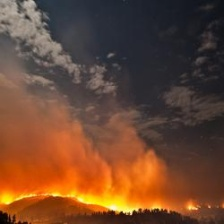fire: (4, 188, 204, 219)
smoke: (1, 100, 176, 176)
